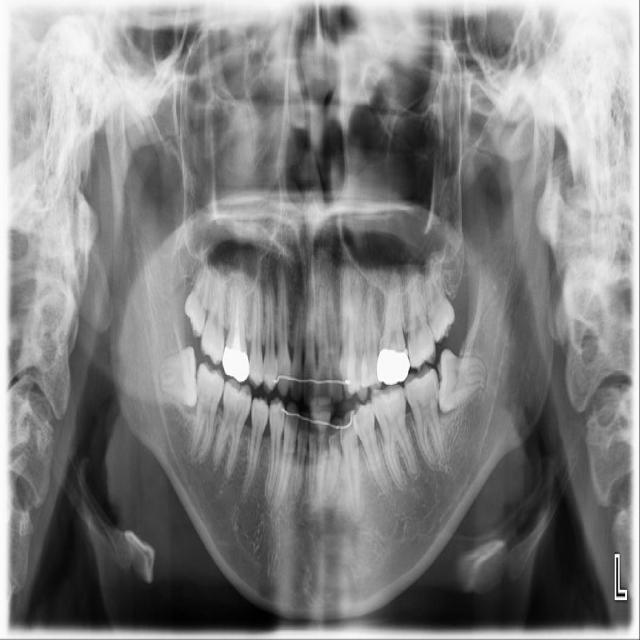3M ESPE Implant: (181, 250, 214, 340)
52: (217, 345, 255, 384), (377, 347, 410, 386)
73: (223, 272, 248, 355), (618, 610, 628, 618)
BioHorizons Implant: (401, 262, 438, 372)
BioLife Implant: (422, 254, 457, 344)
Biomet 3i Implant: (436, 349, 488, 415)
Blue Sky Bio Implant: (402, 363, 448, 469)
Caries: (197, 257, 236, 366)
Implant: (189, 361, 226, 465)
Keystone Dental Implant: (156, 345, 202, 410)
